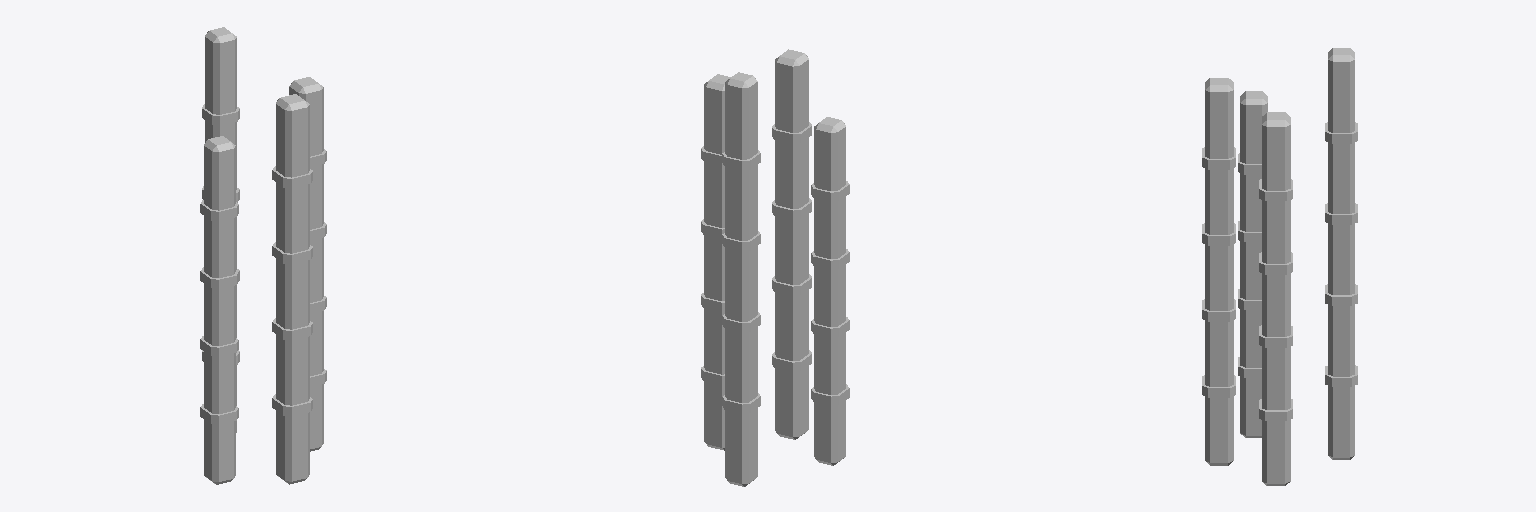
File: Bamboo.obj
The picture shows the model from 3 angles: view 1: azimuth 30°, elevation 25°; view 2: azimuth 150°, elevation 25°; view 3: azimuth 270°, elevation 25°; orthographic projection.
Visible parts, largest first — view 1: Bamboo_Cube.512; view 2: Bamboo_Cube.512; view 3: Bamboo_Cube.512.
Part boxes in pixels (left/top/right/bottom): Bamboo_Cube.512: left=200, top=27, right=326, bottom=484; Bamboo_Cube.512: left=701, top=49, right=849, bottom=486; Bamboo_Cube.512: left=1202, top=48, right=1357, bottom=485.
Size of the model in its own units: 1.46 by 4.44 by 1.55.